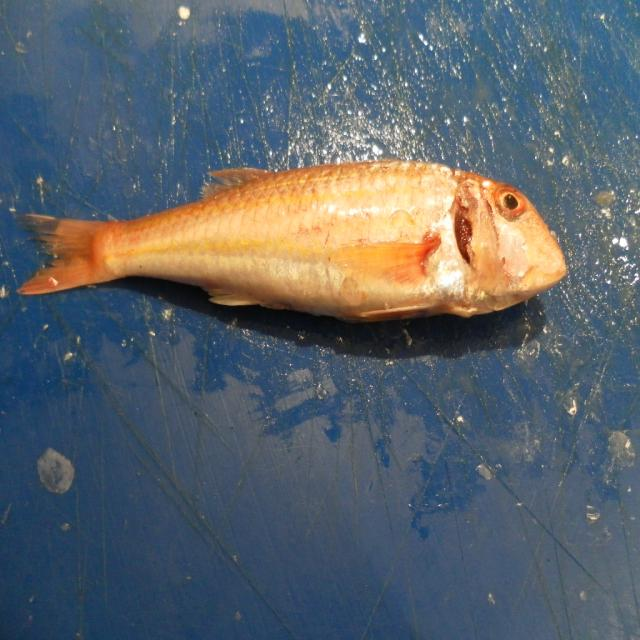Striped-Red-Mullet-tekir-: (18, 161, 569, 326)
